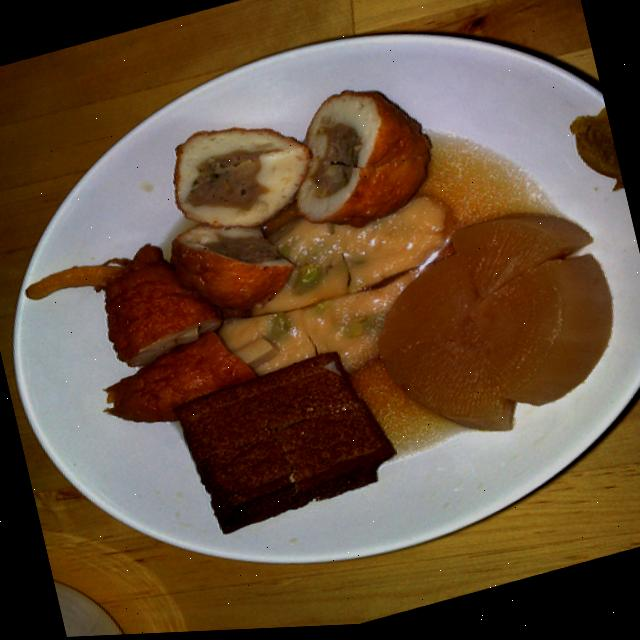汤锅炖物: (50, 35, 640, 560)
